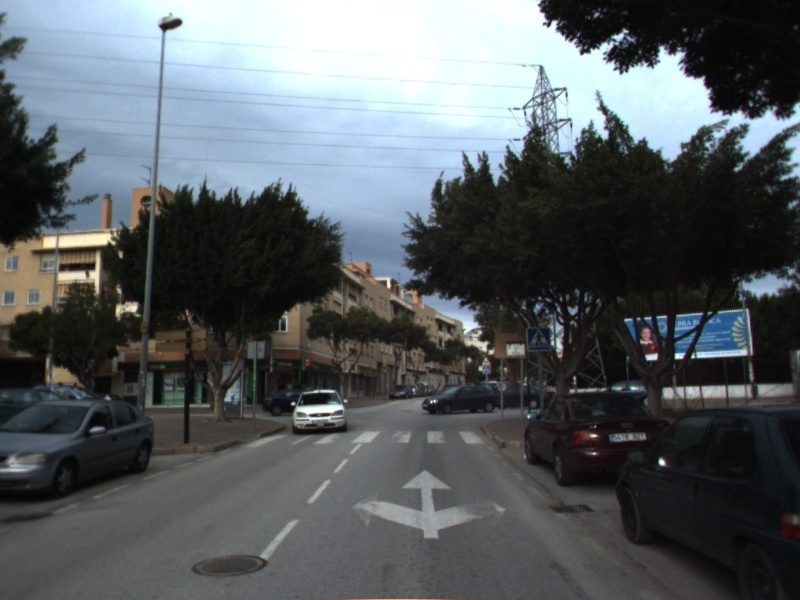STRAIGHT_LEFT_RIGHT: (350, 467, 508, 541)
